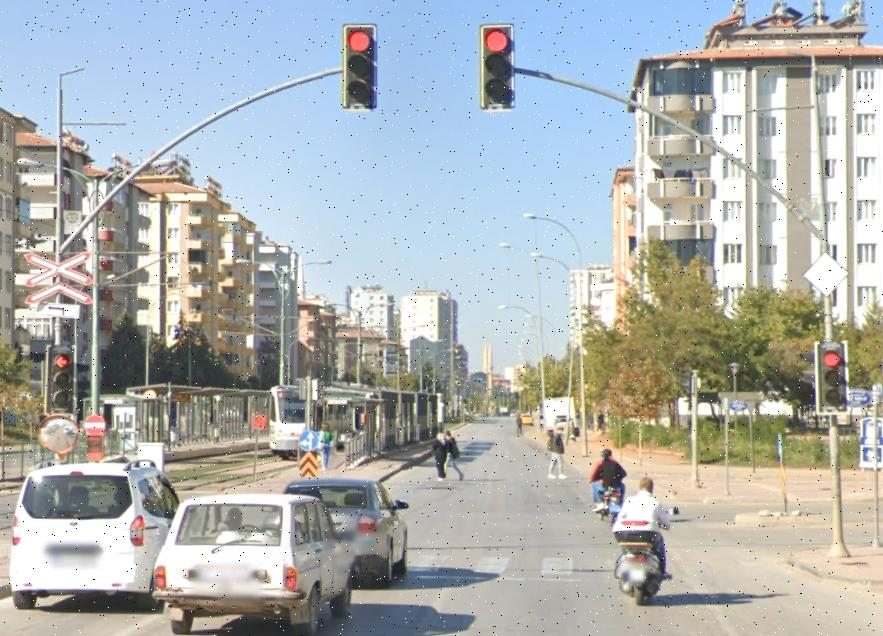redlight: (480, 23, 516, 115), (344, 21, 377, 113), (815, 340, 850, 412), (50, 344, 75, 413)
